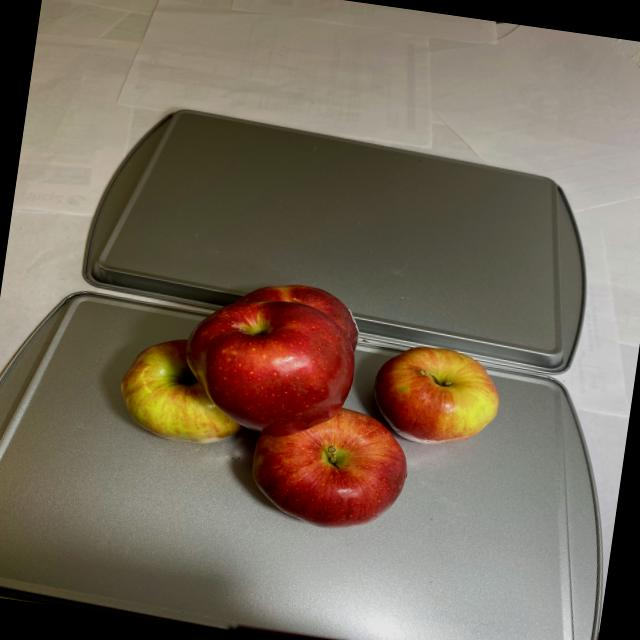apple: (101, 261, 522, 554)
